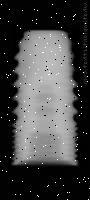Sterngold: (13, 27, 79, 166)
